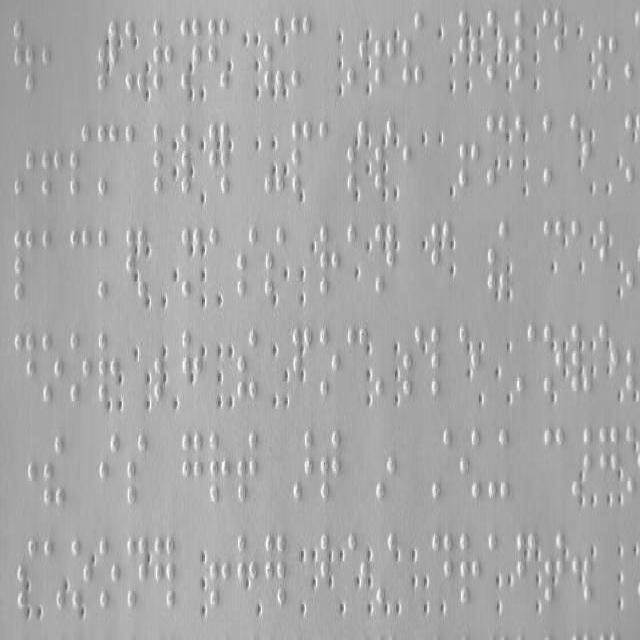braiile: (12, 330, 36, 408), (68, 333, 92, 409), (41, 228, 64, 306), (542, 112, 566, 186), (14, 226, 36, 306), (319, 221, 341, 299), (236, 430, 258, 508), (96, 331, 120, 402), (96, 124, 118, 200), (98, 226, 120, 302), (208, 431, 230, 507), (513, 9, 535, 84), (153, 123, 175, 197), (98, 432, 120, 506), (98, 536, 120, 610), (41, 334, 64, 404), (319, 430, 341, 503), (125, 536, 146, 612), (264, 224, 286, 296), (401, 326, 423, 398), (430, 326, 452, 398), (317, 120, 339, 191), (318, 327, 340, 398), (153, 16, 173, 94), (542, 6, 562, 84), (70, 228, 90, 306), (70, 122, 90, 198), (125, 122, 145, 198), (126, 433, 146, 509), (182, 431, 202, 507), (209, 226, 231, 294), (236, 226, 258, 294), (543, 426, 565, 494), (290, 14, 310, 88), (458, 534, 479, 604), (292, 122, 312, 194), (346, 327, 366, 398), (432, 534, 452, 604), (600, 426, 618, 494)
